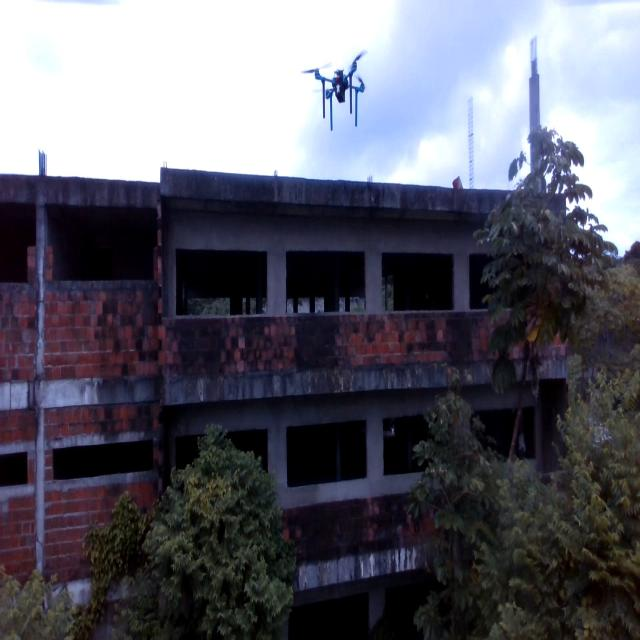-uav-: (299, 38, 377, 144)
